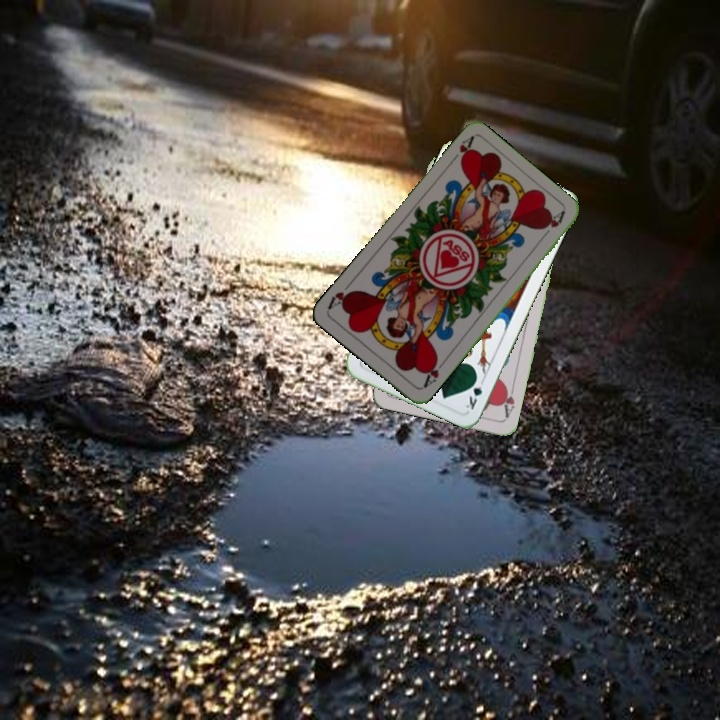GK: (462, 373, 487, 412)
HA: (419, 354, 448, 391), (445, 133, 476, 167), (497, 381, 517, 420)
